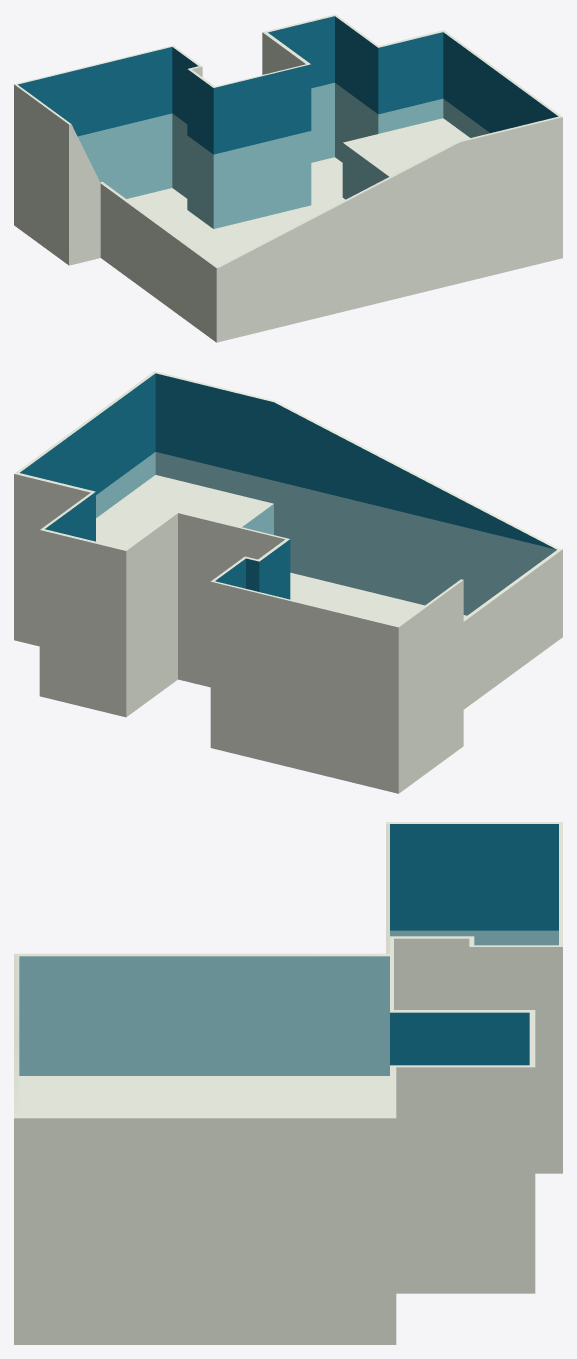
The model's file is walls_floor_v1.gltf.
3 renders of one model, top to bottom at view 1: azimuth 30°, elevation 25°; view 2: azimuth 150°, elevation 25°; view 3: azimuth 270°, elevation 25°, orthographic. The views are drawn at different scales.
Visible parts, largest first — view 1: Walls_floor; view 2: Walls_floor; view 3: Walls_floor.
Boxes of the visible parts, x1,y1,x2,y2 form: Walls_floor: (14, 14, 562, 342); Walls_floor: (14, 371, 562, 793); Walls_floor: (14, 822, 562, 1344).
Bounding box in the file's own units: 17.7 × 6.31 × 13.86.
